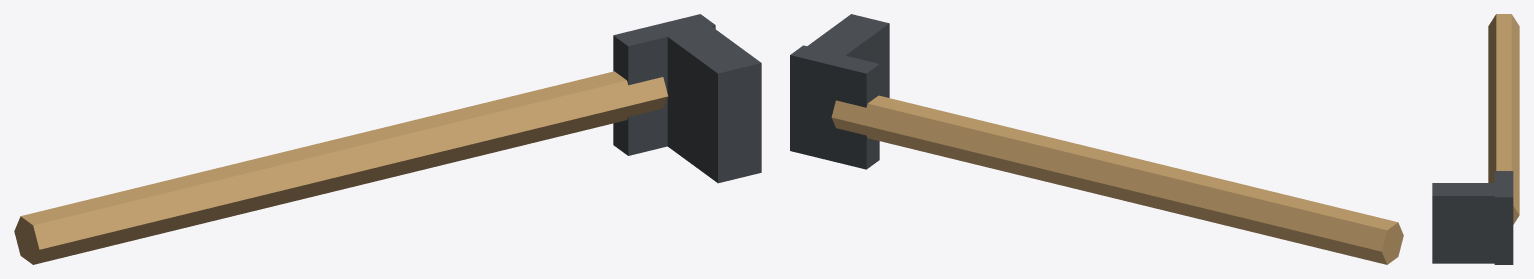
The model's file is axe.glb.
3 views of the same model, side by side, from view 1: azimuth 30°, elevation 25°; view 2: azimuth 150°, elevation 25°; view 3: azimuth 270°, elevation 25° (orthographic). The views are drawn at different scales.
Parts seen in each view (by area): view 1: axe; view 2: axe; view 3: axe.
Part boxes in pixels (box(x1,y1,x2,y2)): axe: box(14, 14, 761, 264); axe: box(790, 14, 1403, 264); axe: box(1432, 14, 1519, 264).
Size of the model in its own units: 0.78 by 0.12 by 0.14.
